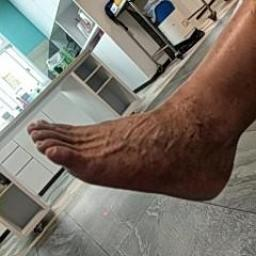Lateral View -Left Foot-: (16, 95, 250, 214)
